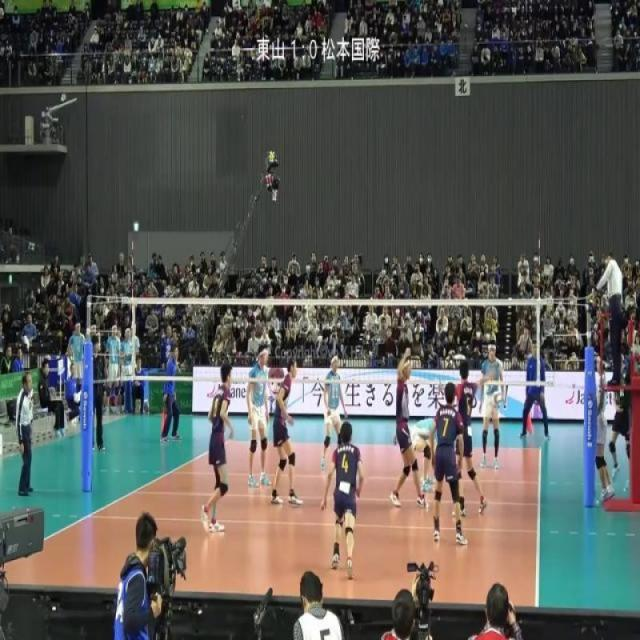volleyball: (492, 390, 501, 408)
